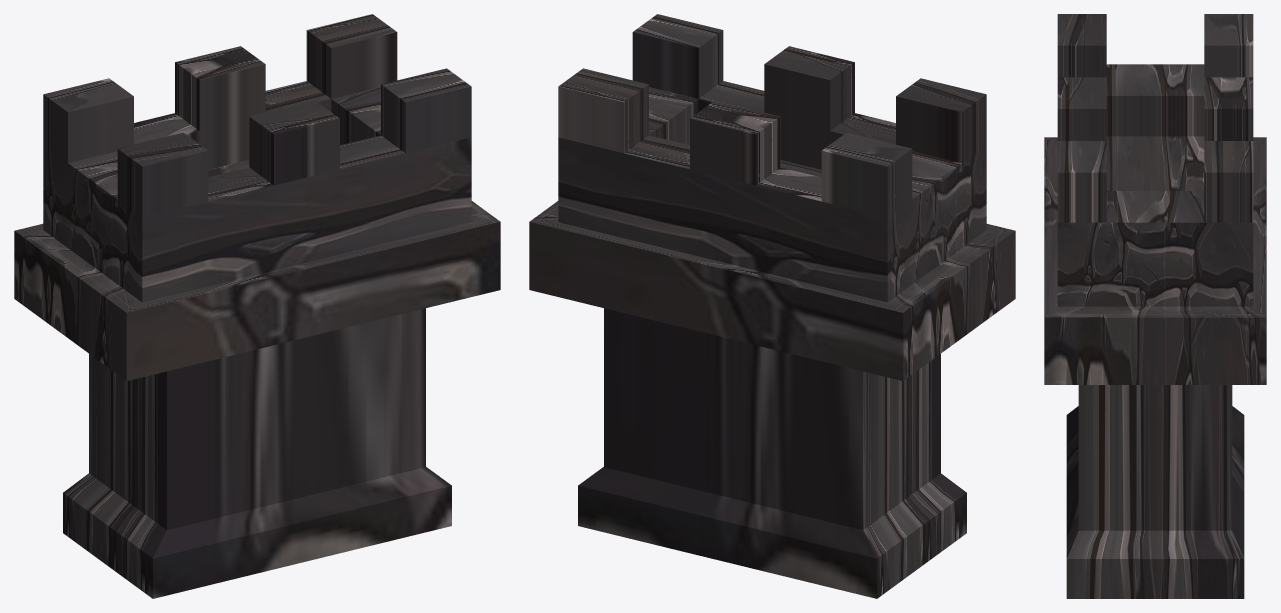
Rendered from field_wall.FBX.
3 views of the same model, side by side, from view 1: azimuth 30°, elevation 25°; view 2: azimuth 150°, elevation 25°; view 3: azimuth 270°, elevation 25° (orthographic).
Visible parts, largest first — view 1: Well_01_004; view 2: Well_01_004; view 3: Well_01_004.
Boxes of the visible parts, x1,y1,x2,y2 form: Well_01_004: [14, 14, 500, 598]; Well_01_004: [529, 14, 1015, 598]; Well_01_004: [1044, 14, 1266, 598].
Bounding box in the file's own units: 0.9979 × 1.12 × 0.5199.
